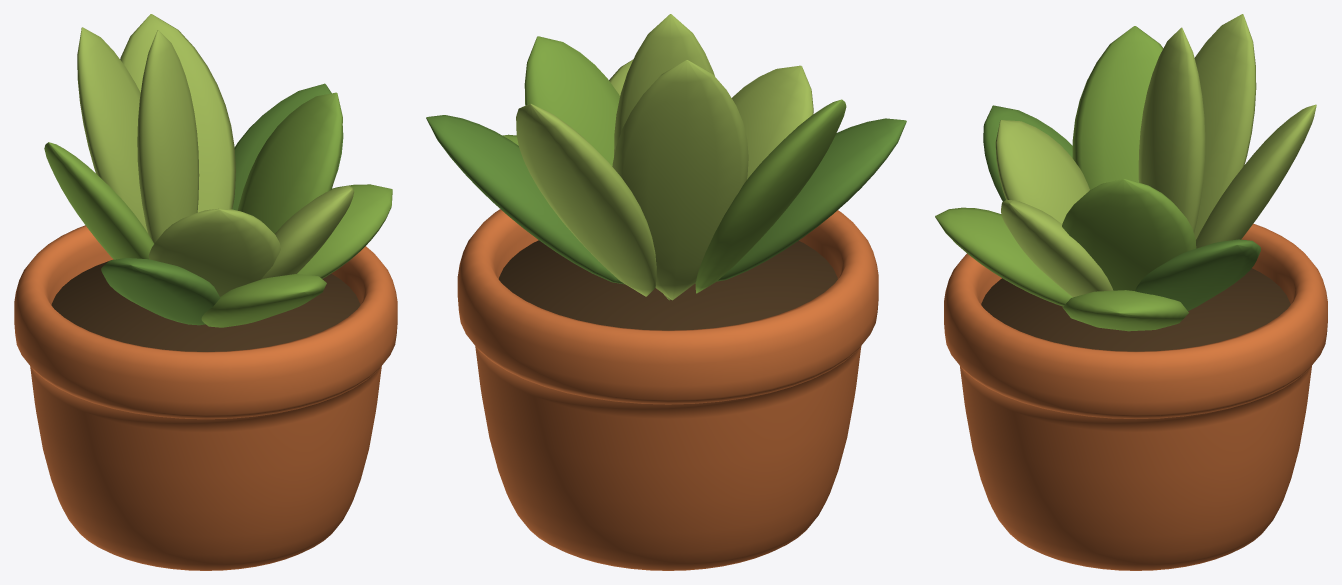
The model's file is planter-t2.glb.
3 views of the same model, side by side, from view 1: azimuth 30°, elevation 25°; view 2: azimuth 150°, elevation 25°; view 3: azimuth 270°, elevation 25° (orthographic). The views are drawn at different scales.
Visible parts, largest first — view 1: Terracotta pot with rolled lip, Succulent rosette of eleven sculpted leaves, Recessed quiet soil; view 2: Terracotta pot with rolled lip, Succulent rosette of eleven sculpted leaves, Recessed quiet soil; view 3: Terracotta pot with rolled lip, Succulent rosette of eleven sculpted leaves, Recessed quiet soil.
Boxes of the visible parts, x1,y1,x2,y2 form: Terracotta pot with rolled lip: [14, 225, 397, 570]; Succulent rosette of eleven sculpted leaves: [44, 14, 392, 327]; Recessed quiet soil: [51, 259, 360, 351]; Terracotta pot with rolled lip: [457, 209, 878, 570]; Succulent rosette of eleven sculpted leaves: [426, 14, 906, 300]; Recessed quiet soil: [498, 240, 837, 330]; Terracotta pot with rolled lip: [944, 223, 1327, 570]; Succulent rosette of eleven sculpted leaves: [935, 14, 1316, 331]; Recessed quiet soil: [981, 268, 1290, 351].
Bounding box in the file's own units: 0.6908 × 0.9163 × 0.6821.
